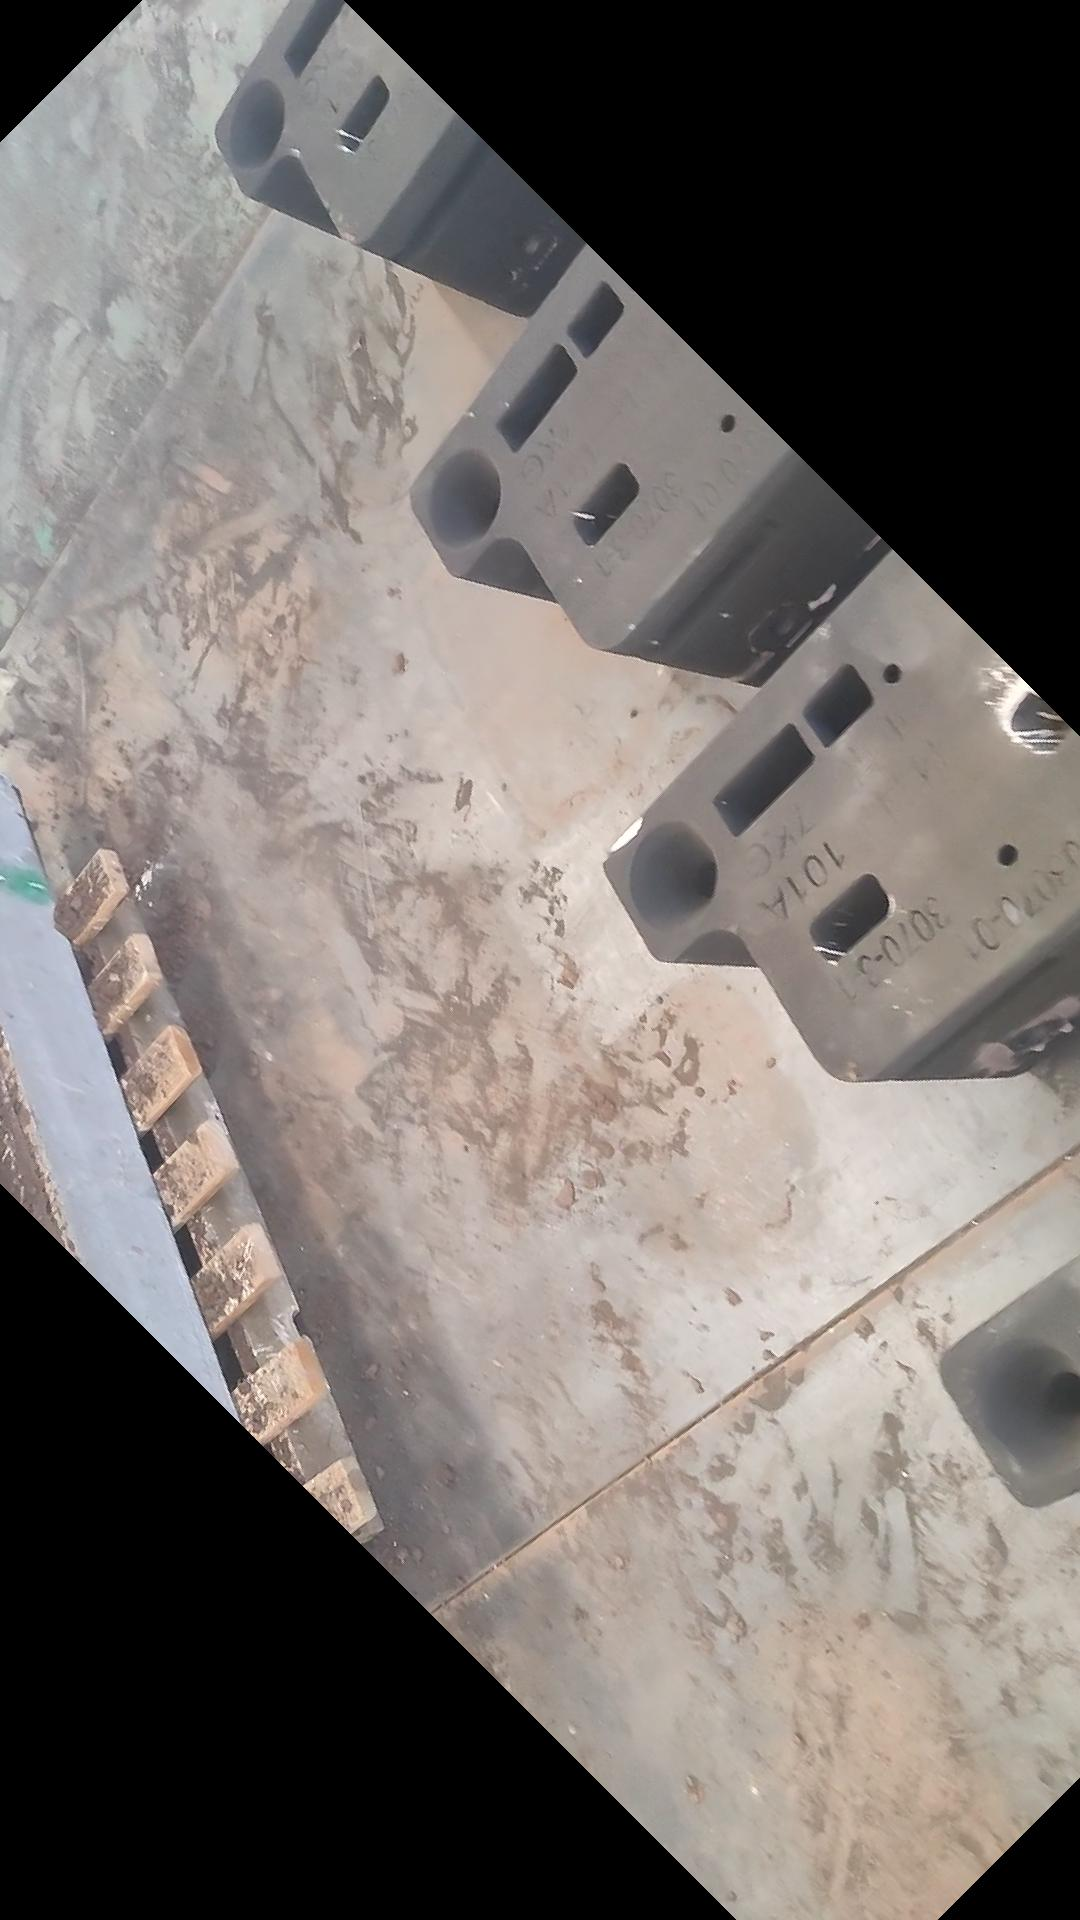pouring hole: (967, 1329, 1080, 1466), (626, 816, 719, 932), (429, 447, 504, 553), (228, 76, 286, 169)
